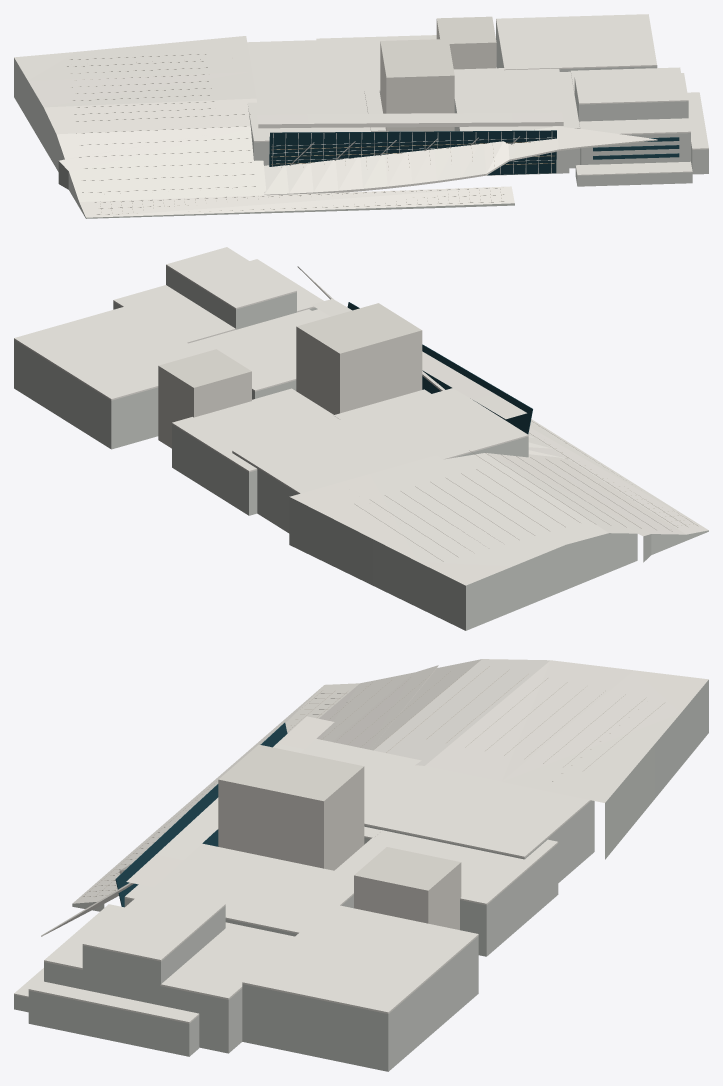
The model's file is oslo-opera-house-far.glb.
3 renders of one model, top to bottom at view 1: azimuth 30°, elevation 25°; view 2: azimuth 150°, elevation 25°; view 3: azimuth 270°, elevation 25°, orthographic. The views are drawn at different scales.
Parts seen in each view (by area): view 1: oslo-opera-house-0-marble, oslo-opera-house-0-granite, oslo-opera-house-0-aluminium, oslo-opera-house-0-glass, oslo-opera-house-0-joint, oslo-opera-house-0-steel, oslo-opera-house-0-light; view 2: oslo-opera-house-0-marble, oslo-opera-house-0-granite, oslo-opera-house-0-aluminium, oslo-opera-house-0-glass, oslo-opera-house-0-joint; view 3: oslo-opera-house-0-marble, oslo-opera-house-0-granite, oslo-opera-house-0-aluminium, oslo-opera-house-0-glass, oslo-opera-house-0-joint.
Part boxes in pixels (x1,y1,x2,y2): oslo-opera-house-0-marble: (14,14,708,217); oslo-opera-house-0-granite: (14,20,708,218); oslo-opera-house-0-aluminium: (380,16,496,131); oslo-opera-house-0-glass: (269,130,679,175); oslo-opera-house-0-joint: (66,54,534,214); oslo-opera-house-0-steel: (271,131,555,174); oslo-opera-house-0-light: (271,142,554,164); oslo-opera-house-0-marble: (14,247,708,585); oslo-opera-house-0-granite: (14,266,708,630); oslo-opera-house-0-aluminium: (158,303,422,448); oslo-opera-house-0-glass: (347,302,532,434); oslo-opera-house-0-joint: (355,372,697,561); oslo-opera-house-0-marble: (14,659,708,1023); oslo-opera-house-0-granite: (14,680,708,1071); oslo-opera-house-0-aluminium: (218,744,461,929); oslo-opera-house-0-glass: (115,722,287,907); oslo-opera-house-0-joint: (81,666,665,898).
Bounding box in the file's own units: 235 × 35 × 179.
